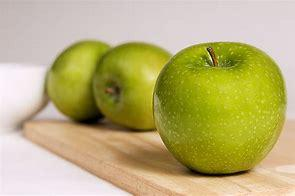apple: (151, 38, 283, 169), (97, 39, 184, 122), (38, 38, 114, 114)
